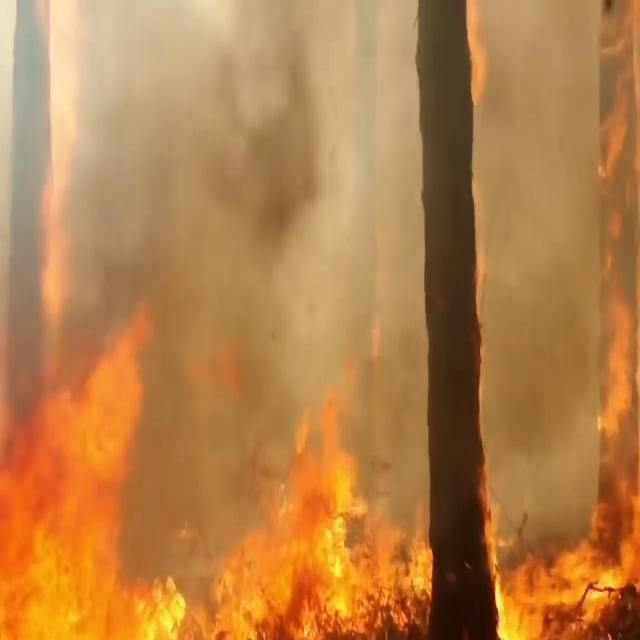Fire: (492, 20, 640, 637), (0, 287, 162, 637), (193, 421, 422, 638)
Smoke: (22, 0, 630, 488)
